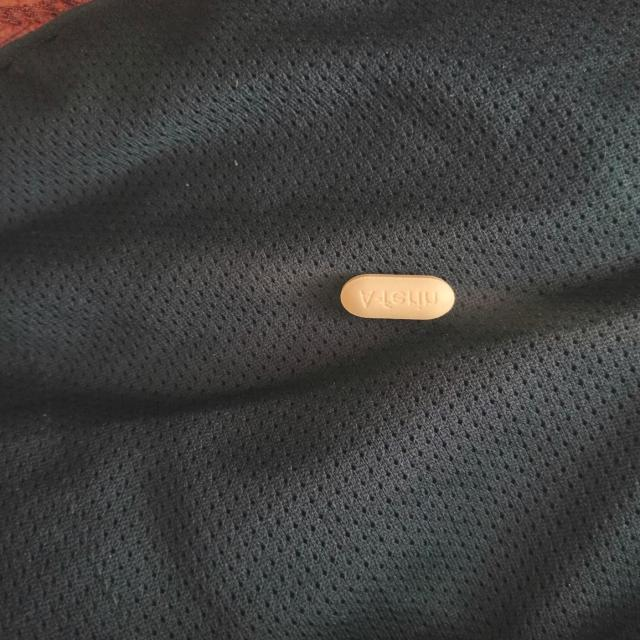pill: (341, 274, 456, 322)
